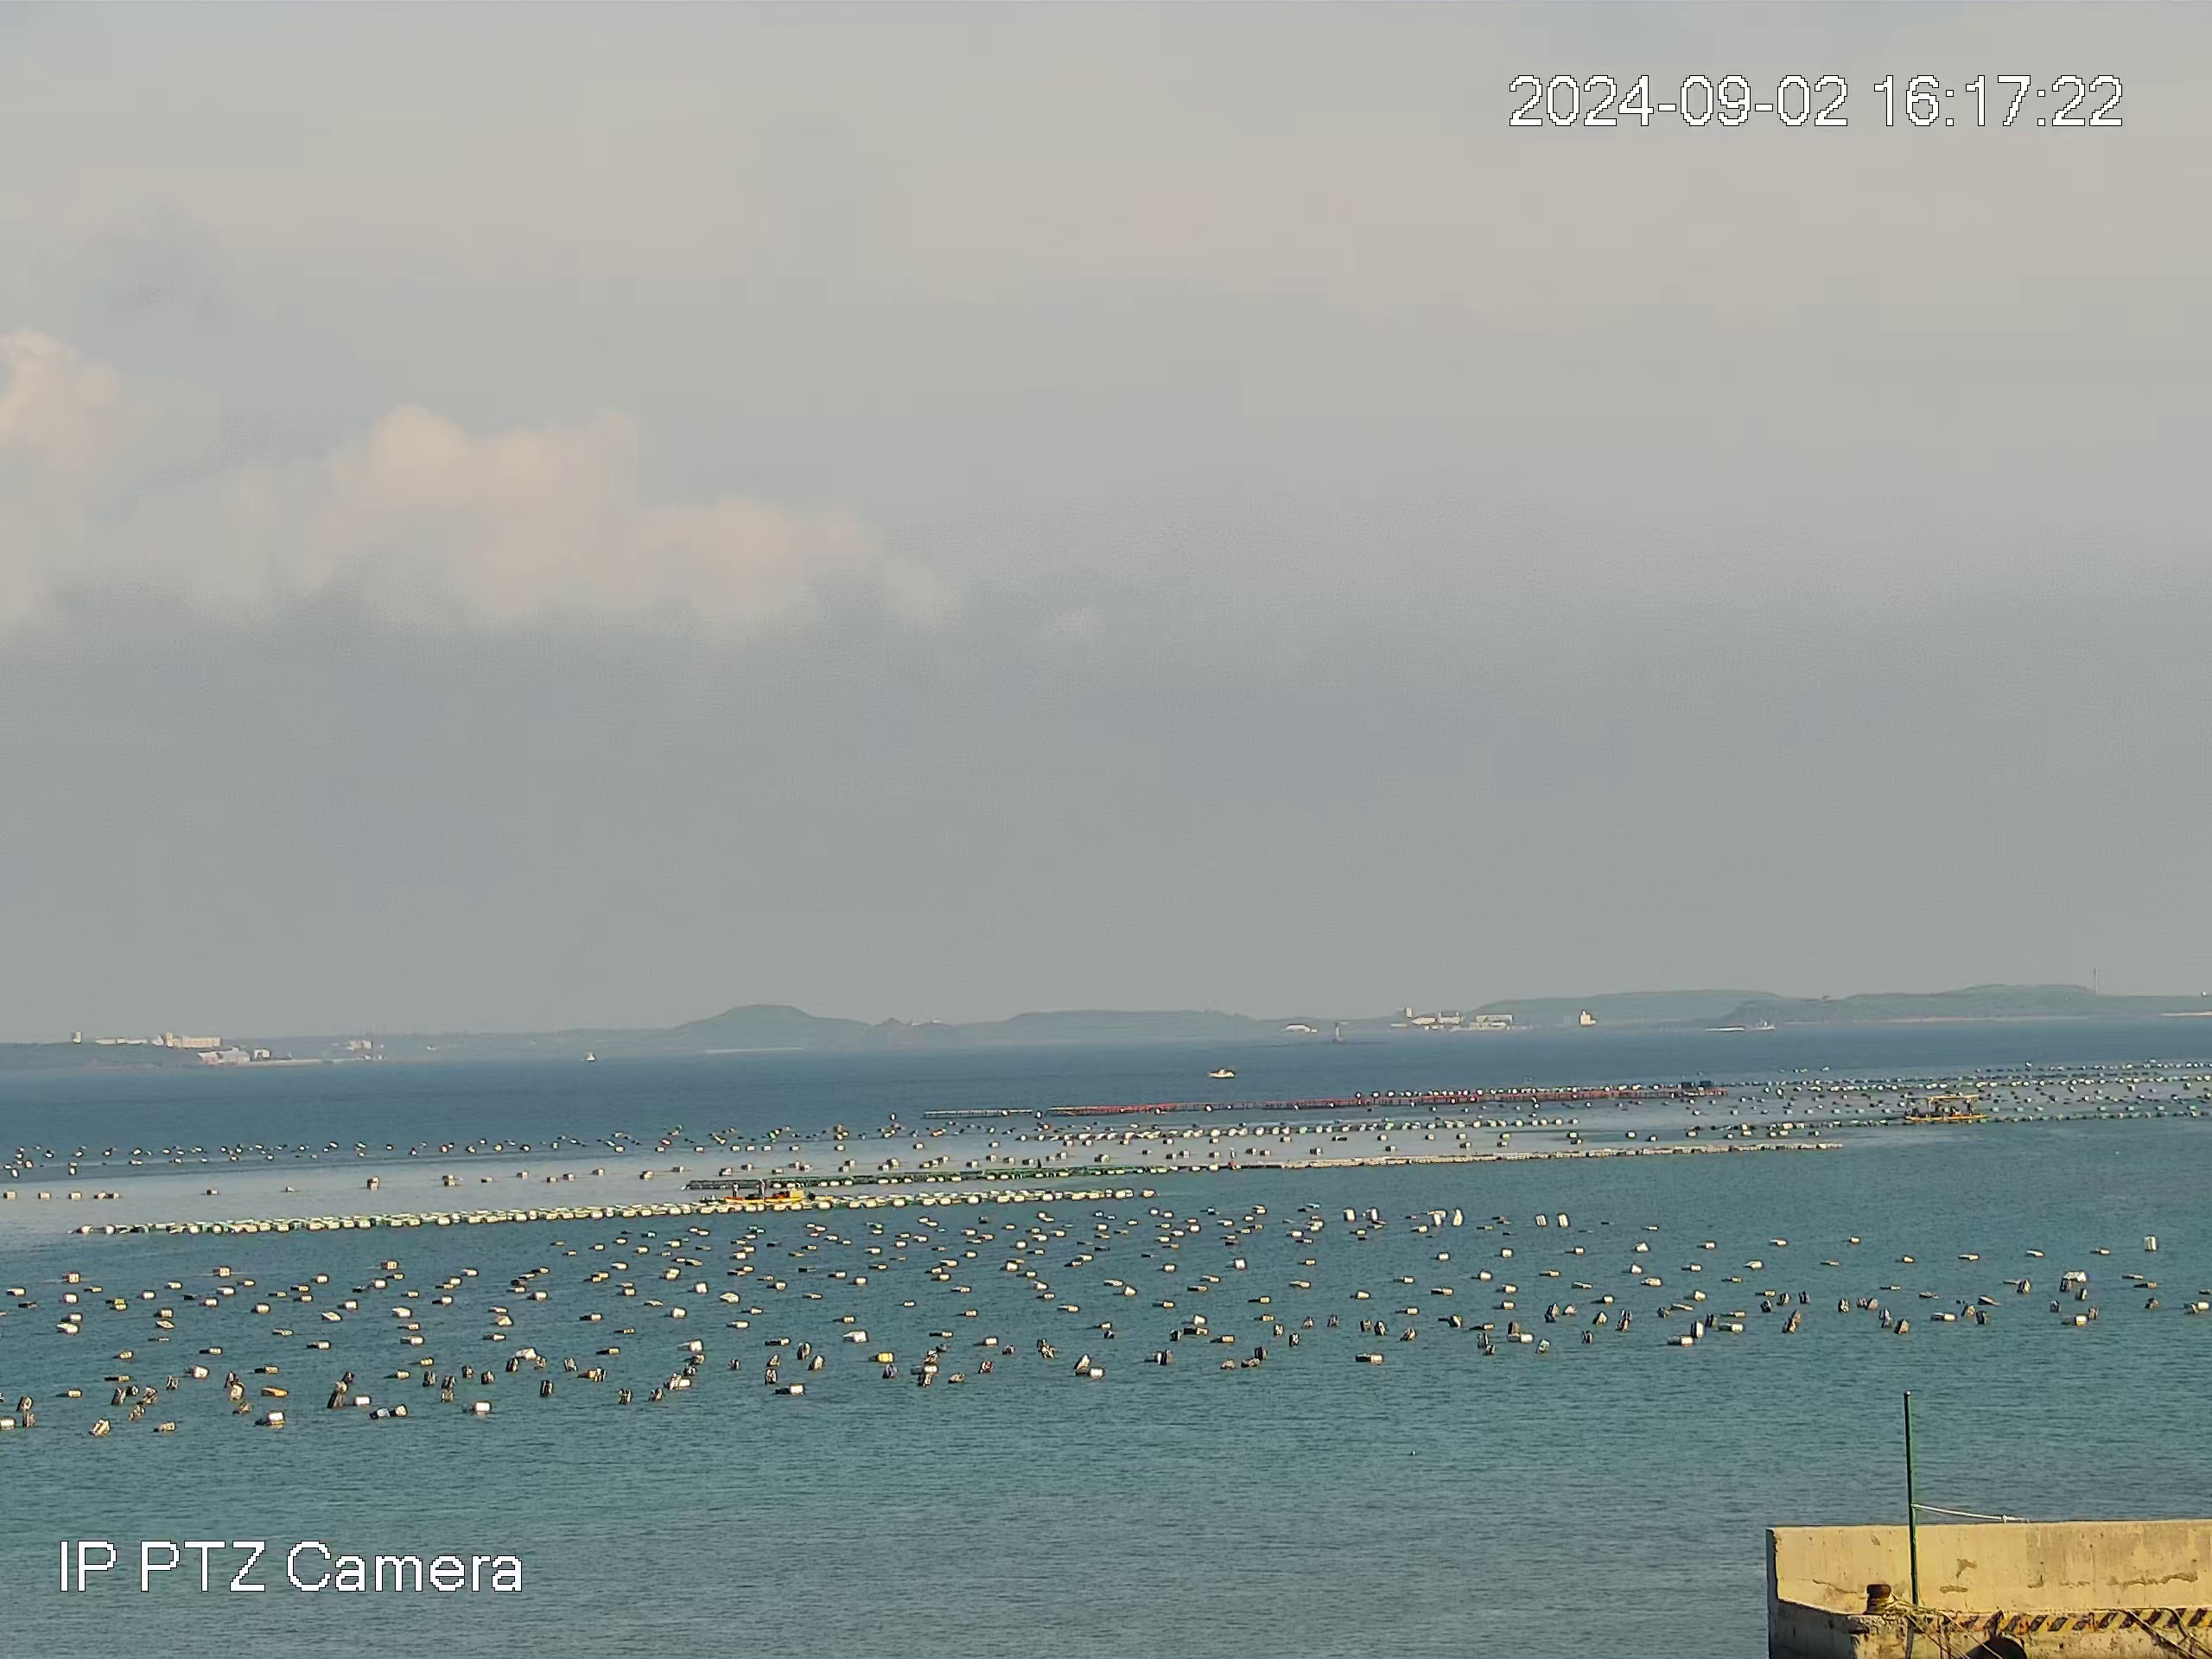boat: (1902, 1093, 1987, 1126), (723, 1178, 805, 1204), (1207, 1066, 1235, 1080)
